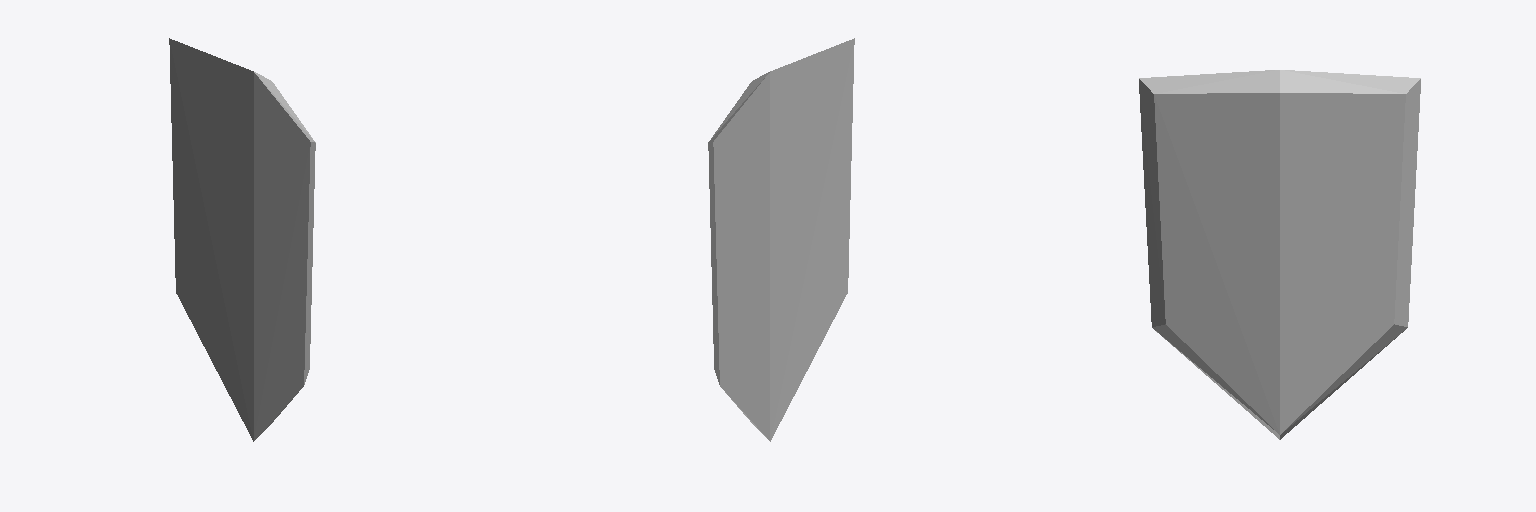
Rendered from wallshield03.obj.
The picture shows the model from 3 angles: view 1: azimuth 30°, elevation 25°; view 2: azimuth 150°, elevation 25°; view 3: azimuth 270°, elevation 25°; orthographic projection.
Parts seen in each view (by area): view 1: WallShield03; view 2: WallShield03; view 3: WallShield03.
Boxes of the visible parts, <box> form: WallShield03: <box>169,38,315,441</box>; WallShield03: <box>708,38,854,441</box>; WallShield03: <box>1139,70,1420,439</box>.
Size of the model in its own units: 0.0954 by 1.05 by 0.7288.